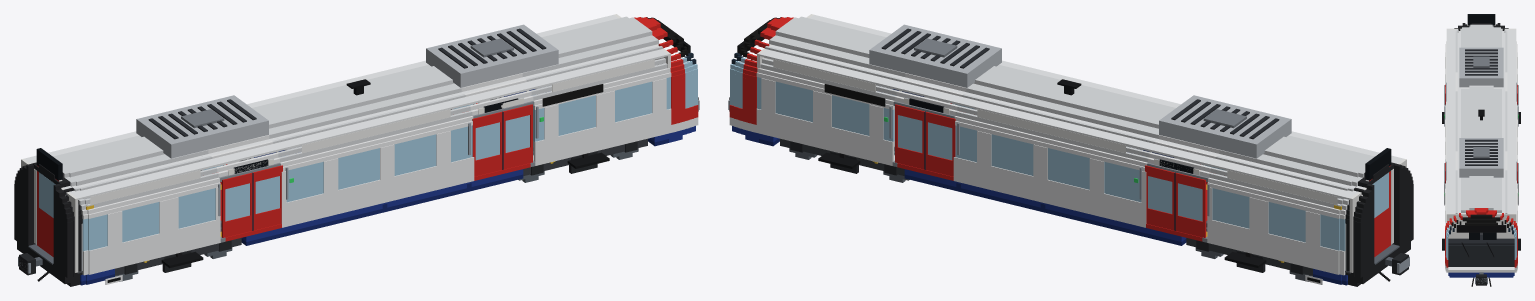
Rendered from tube2009_front.obj.
3 views of the same model, side by side, from view 1: azimuth 30°, elevation 25°; view 2: azimuth 150°, elevation 25°; view 3: azimuth 270°, elevation 25° (orthographic). The views are drawn at different scales.
Parts seen in each view (by area): view 1: SHELL, SHELL_roof, SHELL_ceiling, SHELL_diaphragm, SHELL_ad, EXTERNAL_DOOR_3_CG_DR1_TOGGLE_TL_-0.74_X, EXTERNAL_DOOR_9_CG_DR2_TOGGLE_TL_-0.74_X, EXTERNAL_DOOR_10_CG_DR2_TOGGLE_TL_0.74_X, EXTERNAL_DOOR_4_CG_DR1_TOGGLE_TL_0.74_X, BOGEY_REAR, BOGEY_FRONT, CONNECTING_DOOR_1_CG_CR_TOGGLE_TL_0.98_Z (+4 smaller); view 2: SHELL, SHELL_roof, SHELL_ceiling, SHELL_diaphragm, SHELL_ad, EXTERNAL_DOOR_6_CG_DL1_TOGGLE_TL_-0.74_X, EXTERNAL_DOOR_12_CG_DL2_TOGGLE_TL_-0.74_X, EXTERNAL_DOOR_13_CG_DL2_TOGGLE_TL_0.74_X, EXTERNAL_DOOR_7_CG_DL1_TOGGLE_TL_0.74_X, BOGEY_REAR, BOGEY_FRONT, CONNECTING_DOOR_1_CG_CR_TOGGLE_TL_0.98_Z (+4 smaller); view 3: SHELL, SHELL_ceiling, SHELL_roof, SHELL_desk, SHELL_cabwall, SHELL_destbox, SHELL_end, SHELL_handle, FRAME, BOGEY_FRONT, BOGEY_REAR.
Part boxes in pixels (left/top/right/bottom): SHELL: left=32, top=16, right=698, bottom=286; SHELL_roof: left=136, top=24, right=558, bottom=158; SHELL_ceiling: left=24, top=14, right=667, bottom=199; SHELL_diaphragm: left=14, top=163, right=72, bottom=283; SHELL_ad: left=90, top=59, right=654, bottom=204; EXTERNAL_DOOR_3_CG_DR1_TOGGLE_TL_-0.74_X: left=221, top=172, right=253, bottom=237; EXTERNAL_DOOR_9_CG_DR2_TOGGLE_TL_-0.74_X: left=472, top=111, right=503, bottom=176; EXTERNAL_DOOR_10_CG_DR2_TOGGLE_TL_0.74_X: left=503, top=104, right=532, bottom=169; EXTERNAL_DOOR_4_CG_DR1_TOGGLE_TL_0.74_X: left=253, top=165, right=282, bottom=230; BOGEY_REAR: left=115, top=227, right=241, bottom=275; BOGEY_FRONT: left=523, top=138, right=647, bottom=175; CONNECTING_DOOR_1_CG_CR_TOGGLE_TL_0.98_Z: left=37, top=165, right=58, bottom=256; SHELL: left=729, top=16, right=1395, bottom=286; SHELL_roof: left=869, top=24, right=1291, bottom=158; SHELL_ceiling: left=760, top=14, right=1403, bottom=199; SHELL_diaphragm: left=1355, top=163, right=1413, bottom=283; SHELL_ad: left=773, top=59, right=1337, bottom=204; EXTERNAL_DOOR_6_CG_DL1_TOGGLE_TL_-0.74_X: left=1174, top=172, right=1206, bottom=237; EXTERNAL_DOOR_12_CG_DL2_TOGGLE_TL_-0.74_X: left=924, top=111, right=955, bottom=176; EXTERNAL_DOOR_13_CG_DL2_TOGGLE_TL_0.74_X: left=895, top=104, right=924, bottom=169; EXTERNAL_DOOR_7_CG_DL1_TOGGLE_TL_0.74_X: left=1145, top=165, right=1174, bottom=230; BOGEY_REAR: left=1186, top=227, right=1312, bottom=275; BOGEY_FRONT: left=780, top=138, right=904, bottom=175; CONNECTING_DOOR_1_CG_CR_TOGGLE_TL_0.98_Z: left=1369, top=165, right=1390, bottom=256; SHELL: left=1445, top=23, right=1517, bottom=277; SHELL_ceiling: left=1446, top=29, right=1516, bottom=213; SHELL_roof: left=1459, top=47, right=1503, bottom=177; SHELL_desk: left=1448, top=232, right=1514, bottom=266; SHELL_cabwall: left=1446, top=213, right=1516, bottom=238; SHELL_destbox: left=1456, top=225, right=1506, bottom=232; SHELL_end: left=1446, top=14, right=1515, bottom=29; SHELL_handle: left=1444, top=85, right=1518, bottom=204; FRAME: left=1471, top=272, right=1491, bottom=286; BOGEY_FRONT: left=1442, top=232, right=1520, bottom=250; BOGEY_REAR: left=1442, top=112, right=1520, bottom=123.
Bounding box in the file's own units: 17.84 × 3.24 × 2.84.
Materials: 1 (1 with a texture image).
